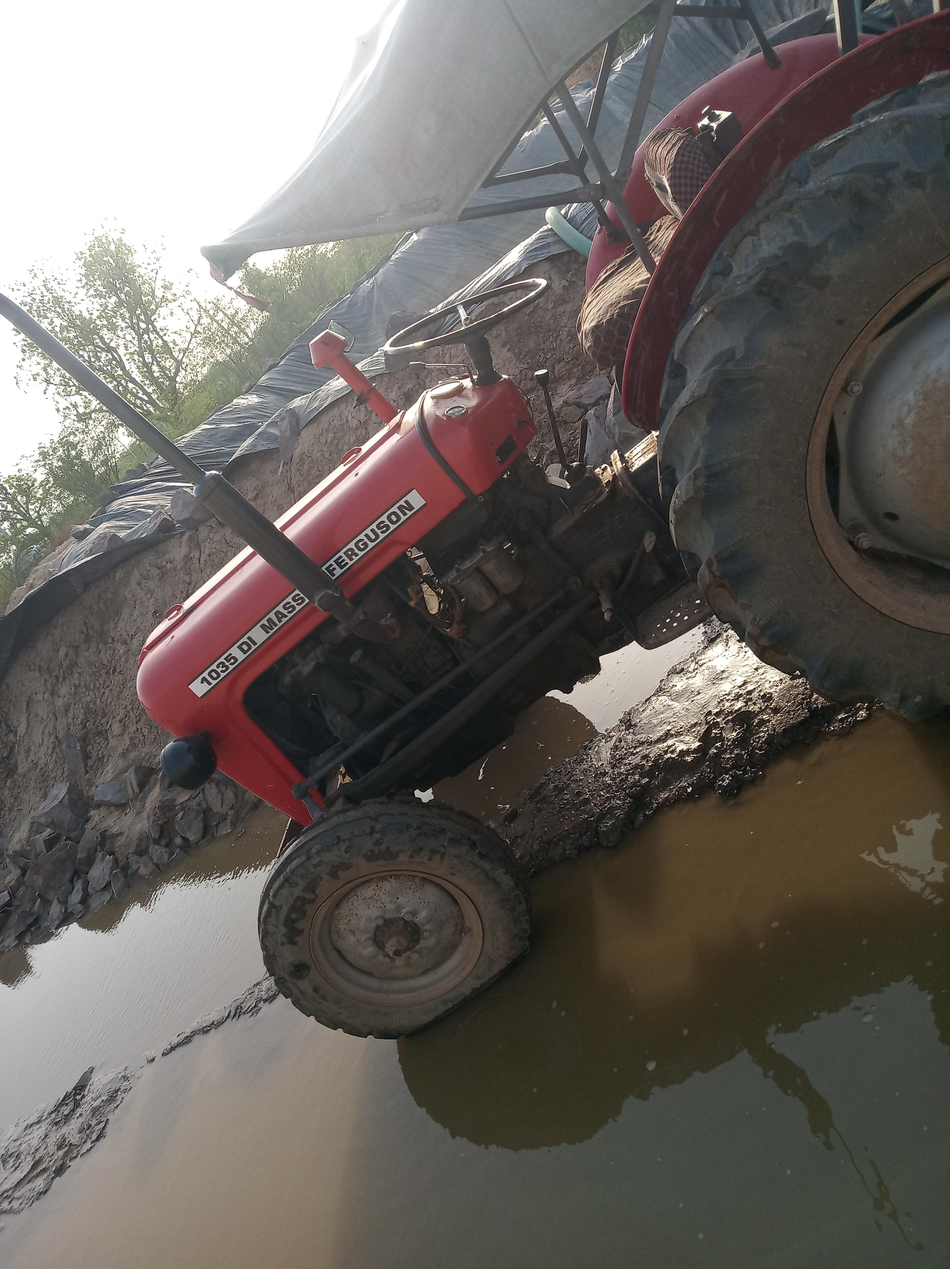Non-emergency: (52, 59, 950, 1079), (93, 163, 950, 974)
